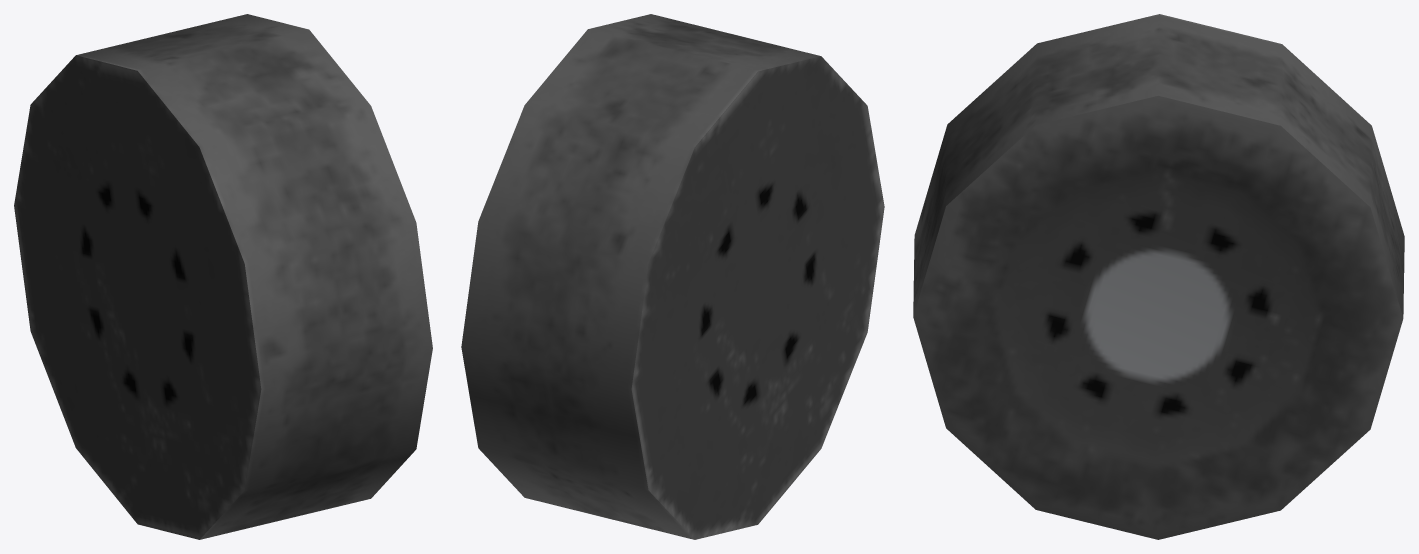
File: llantaAdDerCJ.obj
The picture shows the model from 3 angles, left to right: view 1: azimuth 30°, elevation 25°; view 2: azimuth 150°, elevation 25°; view 3: azimuth 270°, elevation 25°; orthographic projection. The views are drawn at different scales.
Visible parts, largest first — view 1: llantaAdDer; view 2: llantaAdDer; view 3: llantaAdDer.
Part boxes in pixels (left/top/right/bottom): llantaAdDer: left=14, top=14, right=432, bottom=539; llantaAdDer: left=461, top=14, right=884, bottom=539; llantaAdDer: left=913, top=14, right=1404, bottom=539.
Size of the model in its own units: 1.77 by 4.22 by 4.23.
Materials: 1 (1 with a texture image).
